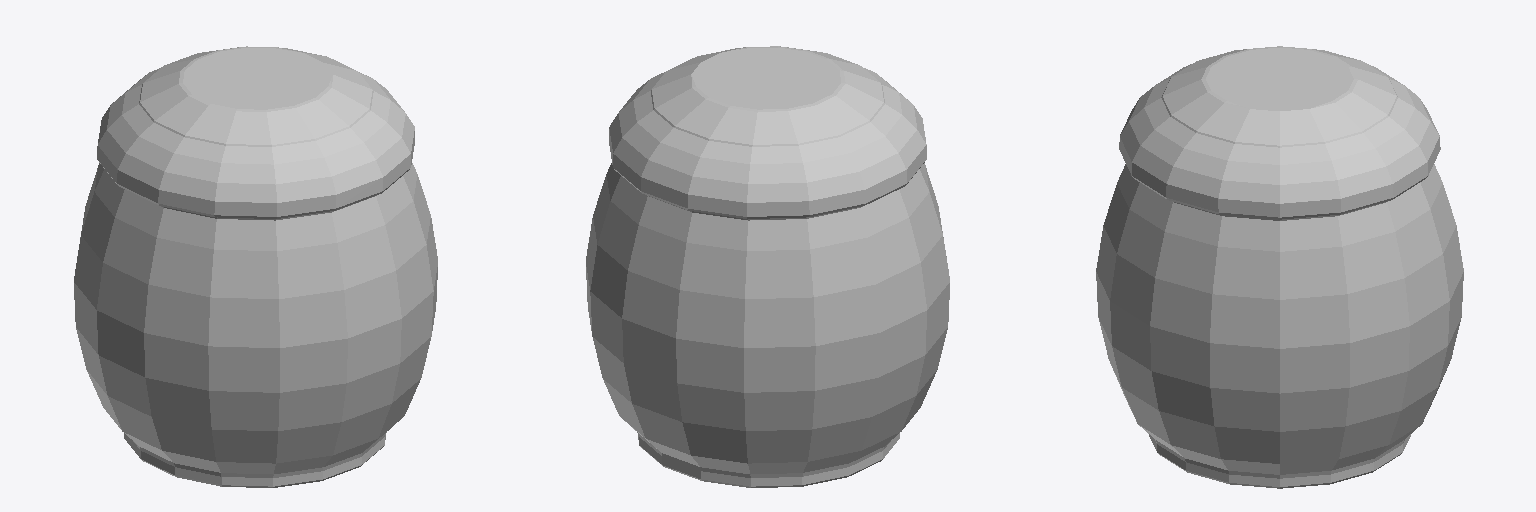
Rendered from SetA_Container_Style_08.obj.
3 views of the same model, side by side, from view 1: azimuth 30°, elevation 25°; view 2: azimuth 150°, elevation 25°; view 3: azimuth 270°, elevation 25° (orthographic).
Parts seen in each view (by area): view 1: SetA_Container_Style_08; view 2: SetA_Container_Style_08; view 3: SetA_Container_Style_08.
Part boxes in pixels (bbox=[...]): SetA_Container_Style_08: bbox=[74, 46, 437, 487]; SetA_Container_Style_08: bbox=[586, 46, 949, 487]; SetA_Container_Style_08: bbox=[1096, 46, 1463, 488].
Size of the model in its own units: 0.2477 by 0.2634 by 0.2477.